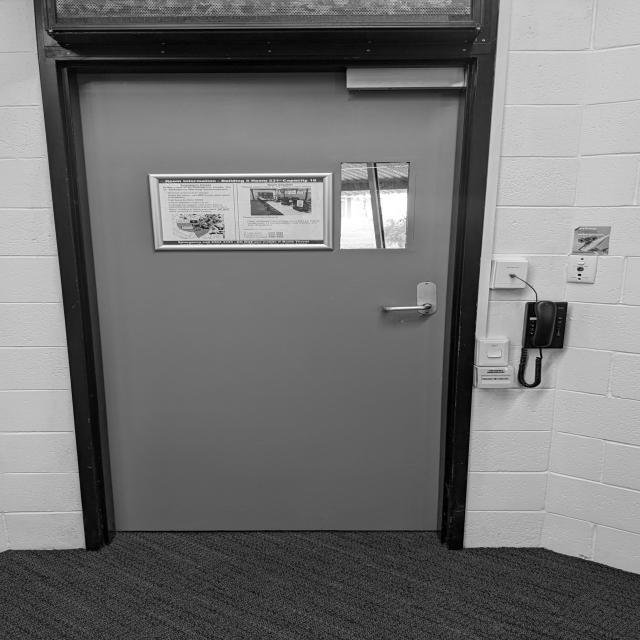doorhandle: (79, 67, 463, 536), (370, 281, 440, 322)
